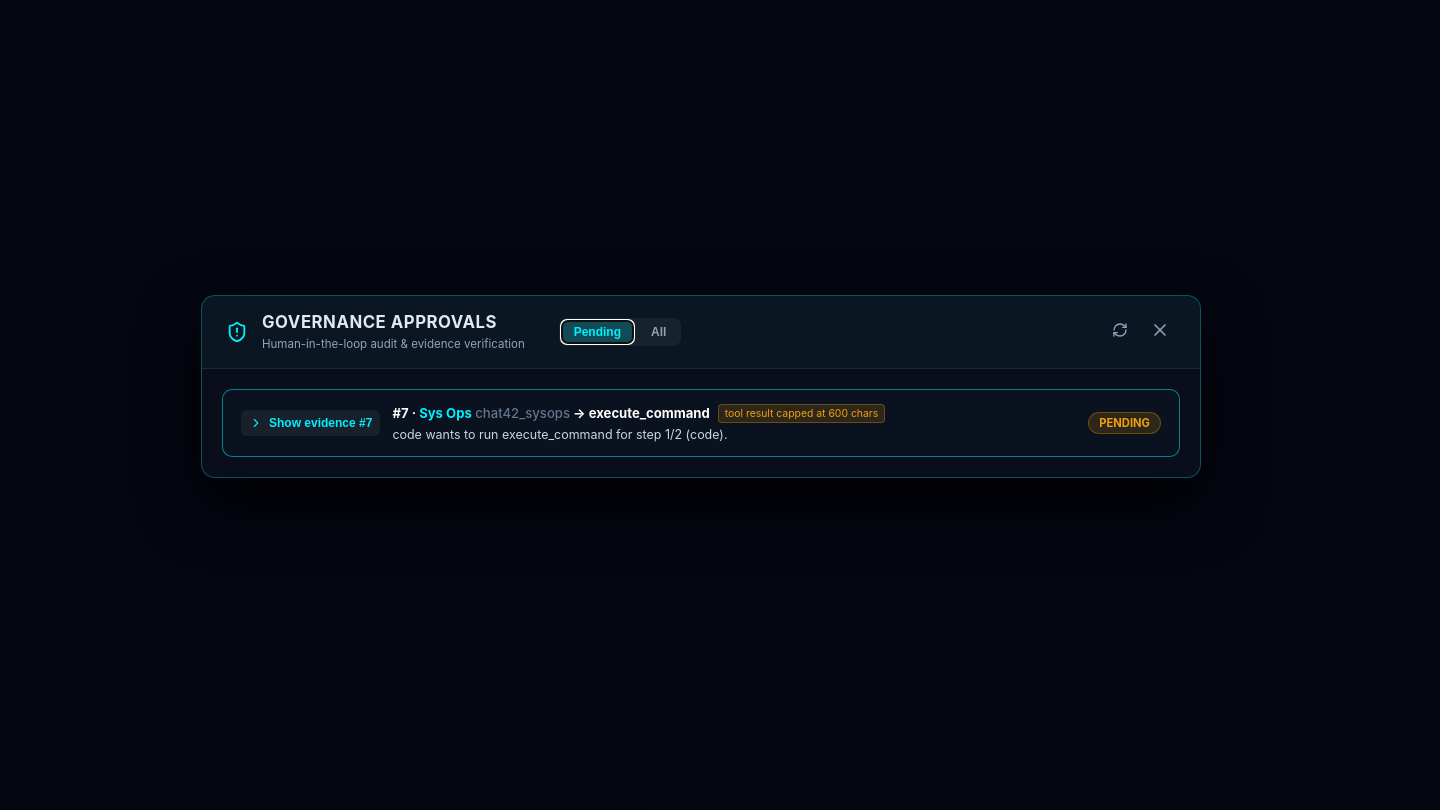
Test: ApprovalsModal › shows the agent name and the session id on the claim
The image size is (1440, 810).
Expected: the text "Sys Ops" is shown, [419,405,472,421]
Step 1. Click the button "Show evidence #7" → [311, 422], box [241,410,380,436]
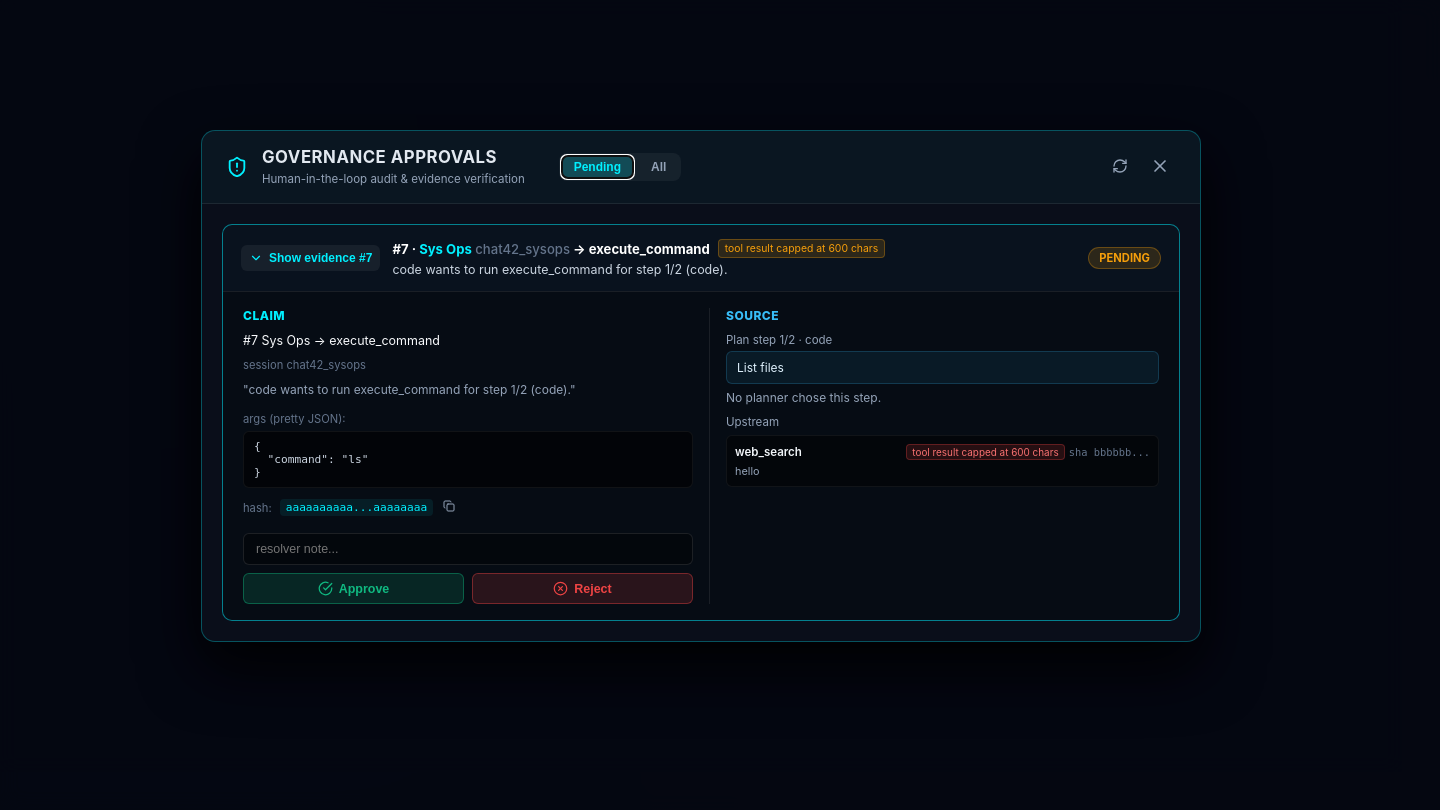
Result: the text "session chat42_sysops" is shown at [243,358,366,372]
Result: the text "No planner chose this step." is shown at [726,390,881,405]
